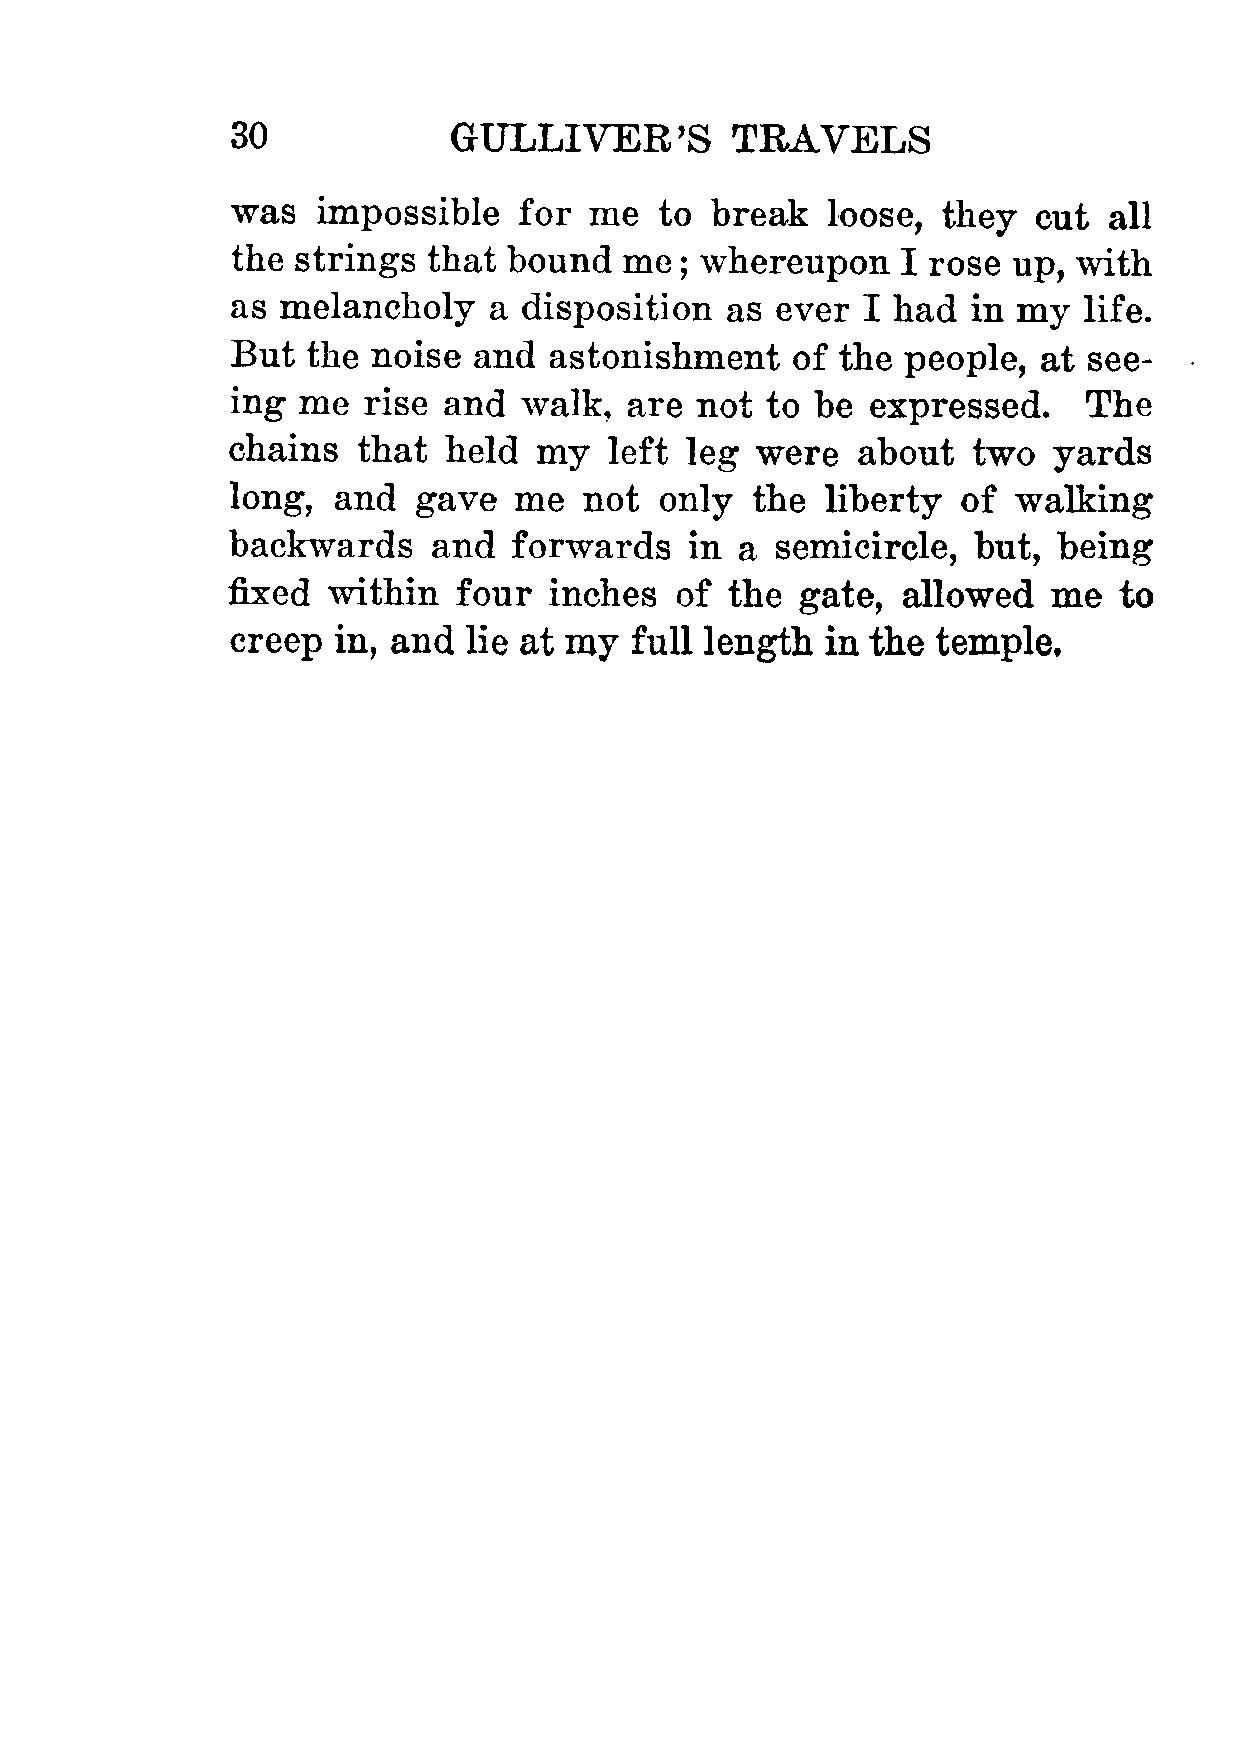content: (225, 197, 1155, 666)
content_chapter: (446, 115, 930, 154)
content_pagenumber: (225, 111, 268, 154)
